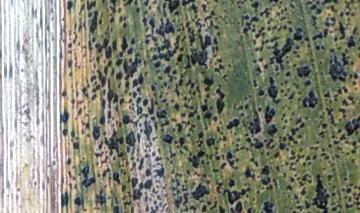tarspot: (189, 31, 213, 67), (311, 170, 329, 213), (326, 52, 349, 83), (272, 35, 292, 63), (104, 126, 123, 155), (265, 74, 281, 107), (77, 163, 97, 188), (266, 75, 280, 108), (155, 16, 175, 39), (225, 187, 252, 204), (245, 111, 263, 136), (301, 89, 320, 111), (122, 55, 139, 79), (342, 114, 360, 136), (190, 181, 210, 200), (187, 148, 205, 169), (213, 86, 226, 115), (94, 38, 112, 58), (87, 10, 100, 37), (141, 118, 153, 144), (245, 134, 264, 150), (225, 148, 238, 171), (263, 106, 278, 124), (121, 112, 139, 127), (155, 39, 173, 54), (295, 63, 313, 77), (225, 117, 241, 131), (261, 197, 275, 213), (154, 106, 170, 120), (58, 189, 71, 206), (123, 130, 136, 147), (59, 107, 71, 125), (243, 163, 255, 180), (291, 25, 303, 42), (345, 33, 357, 50), (167, 1, 181, 15), (266, 123, 279, 138), (311, 29, 324, 44), (155, 164, 167, 180), (96, 71, 108, 87), (336, 18, 347, 35), (142, 176, 155, 190), (161, 131, 173, 146), (201, 76, 213, 91), (84, 1, 100, 12), (120, 33, 128, 55), (136, 155, 147, 171), (92, 150, 108, 161), (91, 123, 101, 140), (62, 1, 77, 12), (173, 194, 184, 209), (95, 137, 106, 152), (193, 129, 205, 142), (213, 63, 226, 75), (258, 176, 272, 187), (148, 16, 156, 35), (71, 195, 83, 207), (174, 120, 183, 136), (59, 126, 70, 139), (100, 166, 111, 179), (172, 84, 182, 98), (112, 170, 121, 185), (111, 37, 120, 52), (70, 139, 81, 151), (205, 136, 216, 148), (255, 87, 266, 98), (175, 52, 186, 63), (260, 164, 271, 175), (171, 101, 182, 112), (176, 135, 186, 147), (199, 1, 209, 13), (100, 97, 108, 112), (109, 1, 117, 16), (153, 152, 163, 164), (89, 91, 99, 103), (163, 63, 172, 76), (79, 85, 88, 98), (249, 77, 262, 86), (97, 113, 107, 124), (226, 176, 236, 187), (302, 78, 313, 88), (321, 89, 332, 99), (140, 16, 150, 27), (332, 137, 343, 147), (69, 127, 78, 139), (278, 140, 287, 152), (250, 1, 262, 10), (249, 14, 261, 23), (66, 58, 75, 70), (129, 35, 137, 48), (143, 167, 153, 177), (261, 61, 271, 71), (63, 157, 74, 166), (112, 202, 121, 213), (200, 104, 211, 113), (141, 97, 150, 108), (122, 79, 131, 90), (122, 1, 133, 10), (88, 73, 97, 84), (108, 15, 117, 26), (115, 69, 122, 83), (114, 56, 122, 68), (59, 88, 68, 98), (130, 175, 139, 185), (149, 83, 158, 93), (241, 26, 251, 35), (287, 174, 296, 184), (187, 109, 195, 120), (154, 59, 162, 70), (299, 120, 307, 131), (172, 66, 179, 78), (313, 43, 322, 52), (134, 84, 143, 93), (215, 55, 224, 64), (284, 69, 292, 79), (303, 33, 310, 44), (118, 96, 125, 107), (183, 19, 192, 27), (254, 64, 263, 72), (241, 13, 250, 21), (345, 185, 353, 194), (219, 163, 228, 171), (141, 1, 150, 9), (208, 8, 216, 17), (185, 76, 191, 88), (315, 6, 322, 16), (320, 121, 328, 129), (143, 38, 151, 46), (214, 154, 222, 162), (286, 183, 293, 192), (254, 31, 260, 41), (121, 21, 128, 29), (310, 3, 317, 11), (273, 151, 279, 160), (345, 94, 346, 112)
